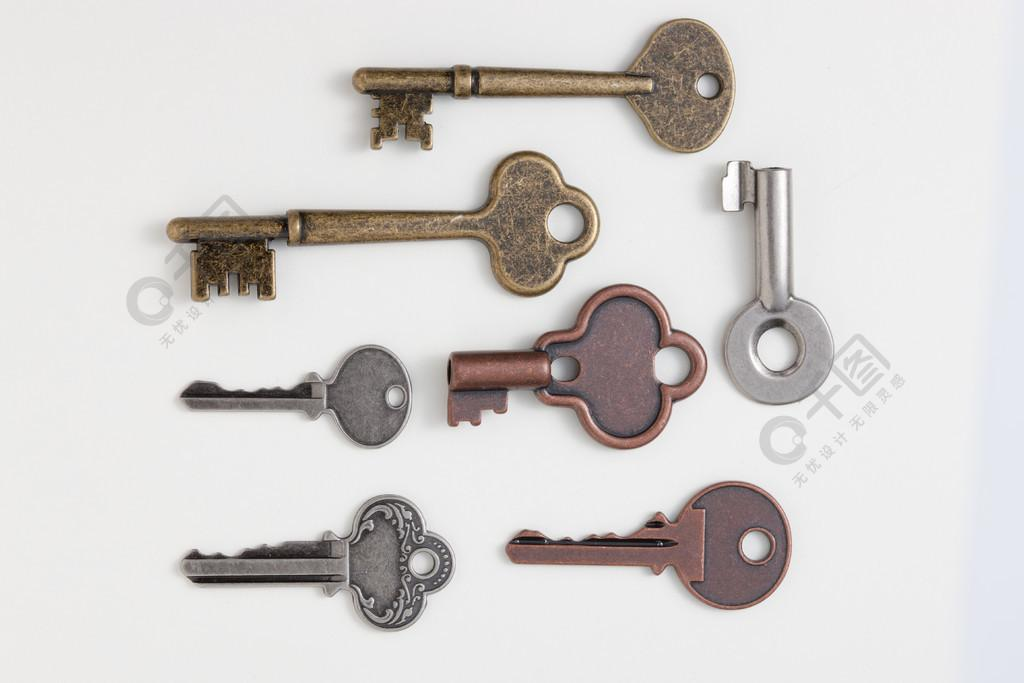key: (156, 145, 614, 316), (334, 8, 763, 165), (431, 276, 720, 469), (494, 474, 843, 629), (155, 477, 478, 640), (707, 152, 871, 425), (160, 329, 426, 477)
